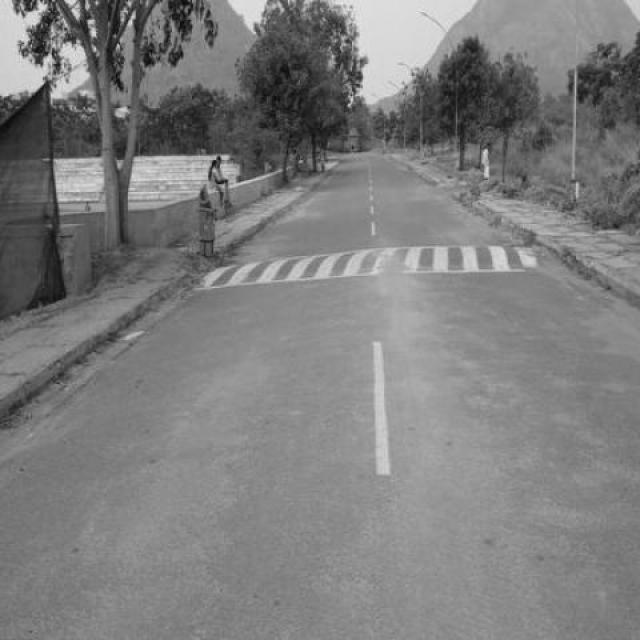Speed Bump: (198, 238, 541, 288)
